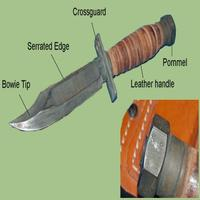knife: (6, 11, 177, 136)
